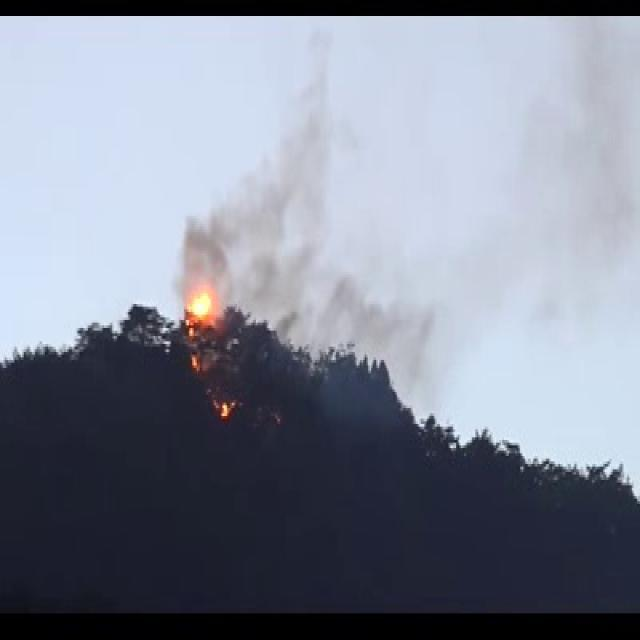Fire: (190, 292, 216, 319)
